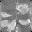people: (17, 4, 29, 16), (7, 19, 16, 32), (19, 19, 31, 26), (0, 12, 12, 18), (0, 20, 10, 27)
